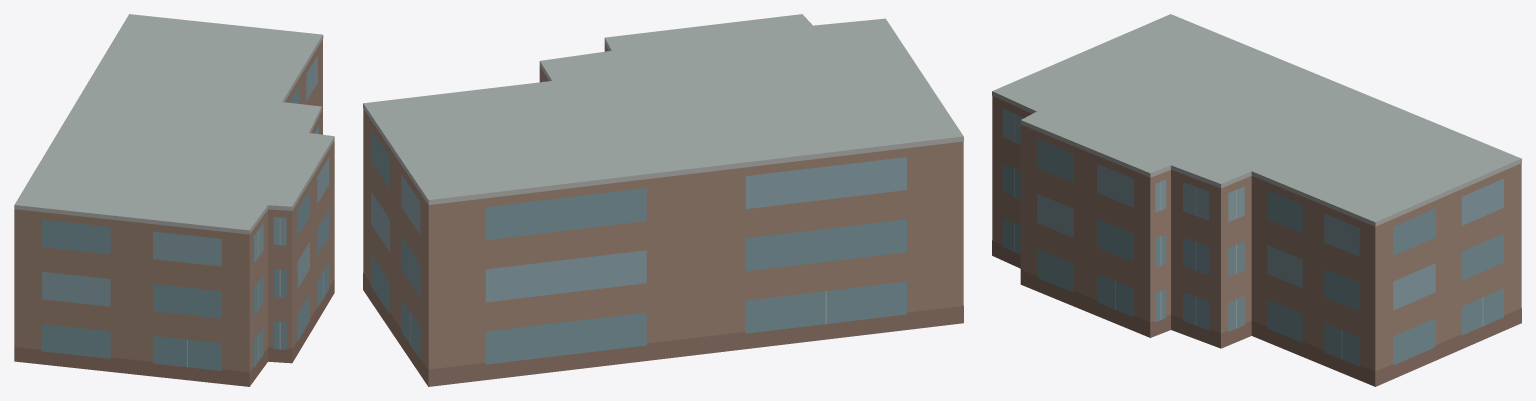
The model's file is survey-upis-32655628.glb.
3 renders of one model, left to right at view 1: azimuth 30°, elevation 25°; view 2: azimuth 150°, elevation 25°; view 3: azimuth 270°, elevation 25°, orthographic. The views are drawn at different scales.
Visible parts, largest first — view 1: survey-upis-32655628.tmp; view 2: survey-upis-32655628.tmp; view 3: survey-upis-32655628.tmp.
Boxes of the visible parts, <box> form: survey-upis-32655628.tmp: <box>14,14,334,386</box>; survey-upis-32655628.tmp: <box>363,14,963,386</box>; survey-upis-32655628.tmp: <box>992,14,1521,386</box>.
Bounding box in the file's own units: 24.86 × 9.15 × 26.7.
